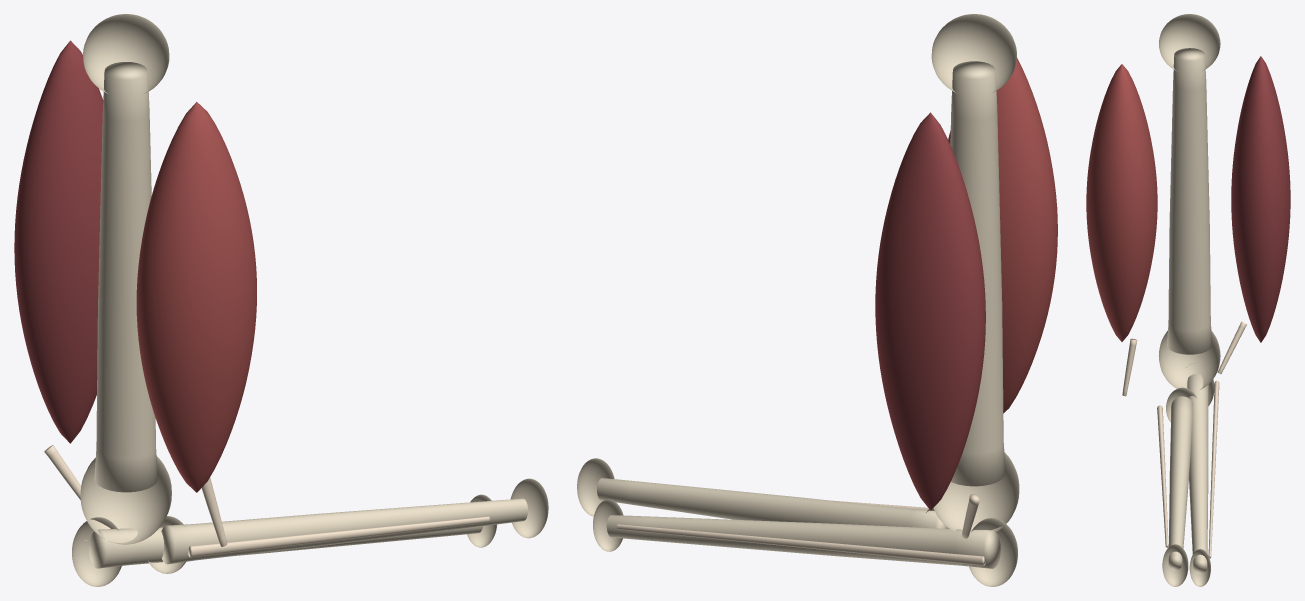
The model's file is arm_biceps.glb.
The picture shows the model from 3 angles, left to right: view 1: azimuth 30°, elevation 25°; view 2: azimuth 150°, elevation 25°; view 3: azimuth 270°, elevation 25°; orthographic projection. The views are drawn at different scales.
Visible parts, largest first — view 1: Biceps, Humerus, Triceps, Radius, Ulna, Tendon_Flexor; view 2: Triceps, Humerus, Biceps, Ulna, Radius, Tendon_Extensor; view 3: Humerus, Biceps, Triceps, Radius, Ulna, Tendon_Extensor, Tendon_Flexor, Tendon_Biceps, Tendon_Triceps.
Boxes of the visible parts, left/top/right/bottom form: Biceps: left=136, top=102, right=256, bottom=492; Humerus: left=80, top=14, right=171, bottom=544; Triceps: left=14, top=40, right=103, bottom=443; Radius: left=148, top=478, right=548, bottom=573; Ulna: left=72, top=494, right=497, bottom=586; Tendon_Flexor: left=188, top=516, right=489, bottom=557; Triceps: left=875, top=112, right=985, bottom=510; Humerus: left=931, top=14, right=1019, bottom=534; Biceps: left=948, top=57, right=1057, bottom=413; Ulna: left=593, top=499, right=1017, bottom=586; Radius: left=577, top=458, right=948, bottom=528; Tendon_Extensor: left=617, top=524, right=985, bottom=565; Humerus: left=1159, top=14, right=1220, bottom=389; Biceps: left=1086, top=64, right=1157, bottom=341; Triceps: left=1231, top=56, right=1290, bottom=342; Radius: left=1162, top=387, right=1196, bottom=586; Ulna: left=1186, top=362, right=1214, bottom=586; Tendon_Extensor: left=1208, top=380, right=1219, bottom=558; Tendon_Flexor: left=1157, top=405, right=1168, bottom=547; Tendon_Biceps: left=1122, top=338, right=1137, bottom=396; Tendon_Triceps: left=1217, top=321, right=1246, bottom=373.
Bounding box in the file's own units: 0.324 × 0.412 × 0.172.
